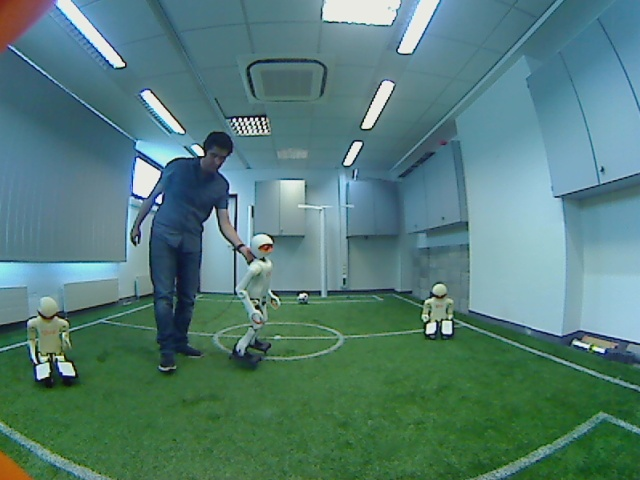ball: (293, 289, 315, 309)
robot: (223, 230, 283, 371), (19, 291, 88, 387), (413, 281, 461, 347)
